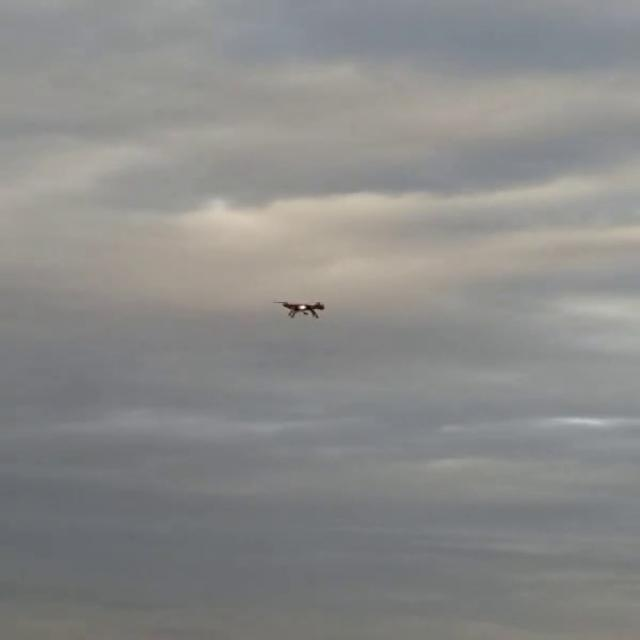drone: (274, 296, 330, 322)
